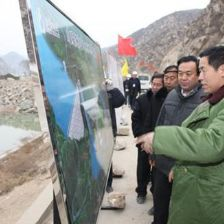head: (198, 45, 224, 100), (175, 56, 200, 94), (162, 66, 179, 93), (148, 72, 165, 95)
